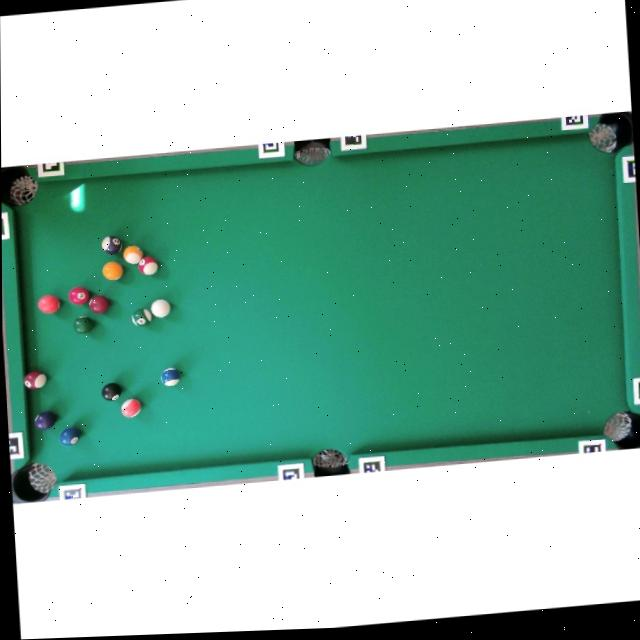cue ball: (151, 299, 171, 318)
other: (101, 260, 125, 282), (88, 293, 110, 315), (35, 409, 58, 430), (38, 294, 61, 315), (25, 369, 48, 390), (68, 285, 90, 306), (121, 398, 142, 419), (101, 235, 122, 256), (122, 244, 143, 265), (101, 382, 123, 402), (137, 256, 159, 276), (73, 315, 95, 335), (59, 427, 81, 446), (160, 366, 180, 386), (132, 307, 152, 327)
